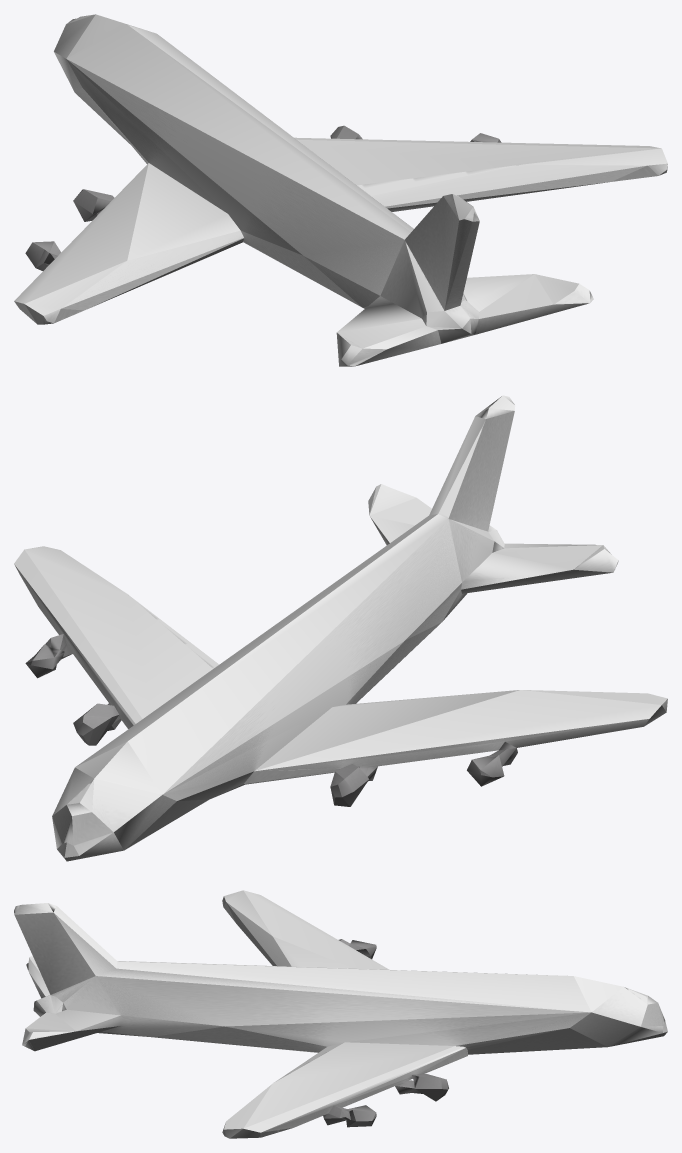
File: small-low-poly-plane-for-map.glb
3 views of the same model, one above another, from view 1: azimuth 30°, elevation 25°; view 2: azimuth 150°, elevation 25°; view 3: azimuth 270°, elevation 25° (orthographic). The views are drawn at different scales.
Visible parts, largest first — view 1: plane.001; view 2: plane.001; view 3: plane.001.
Part boxes in pixels (left/top/right/bottom): plane.001: left=14, top=14, right=667, bottom=366; plane.001: left=14, top=395, right=667, bottom=861; plane.001: left=14, top=890, right=667, bottom=1138.
Size of the model in its own units: 0.4139 by 0.1157 by 0.4798.
1 material, 1 textured.
